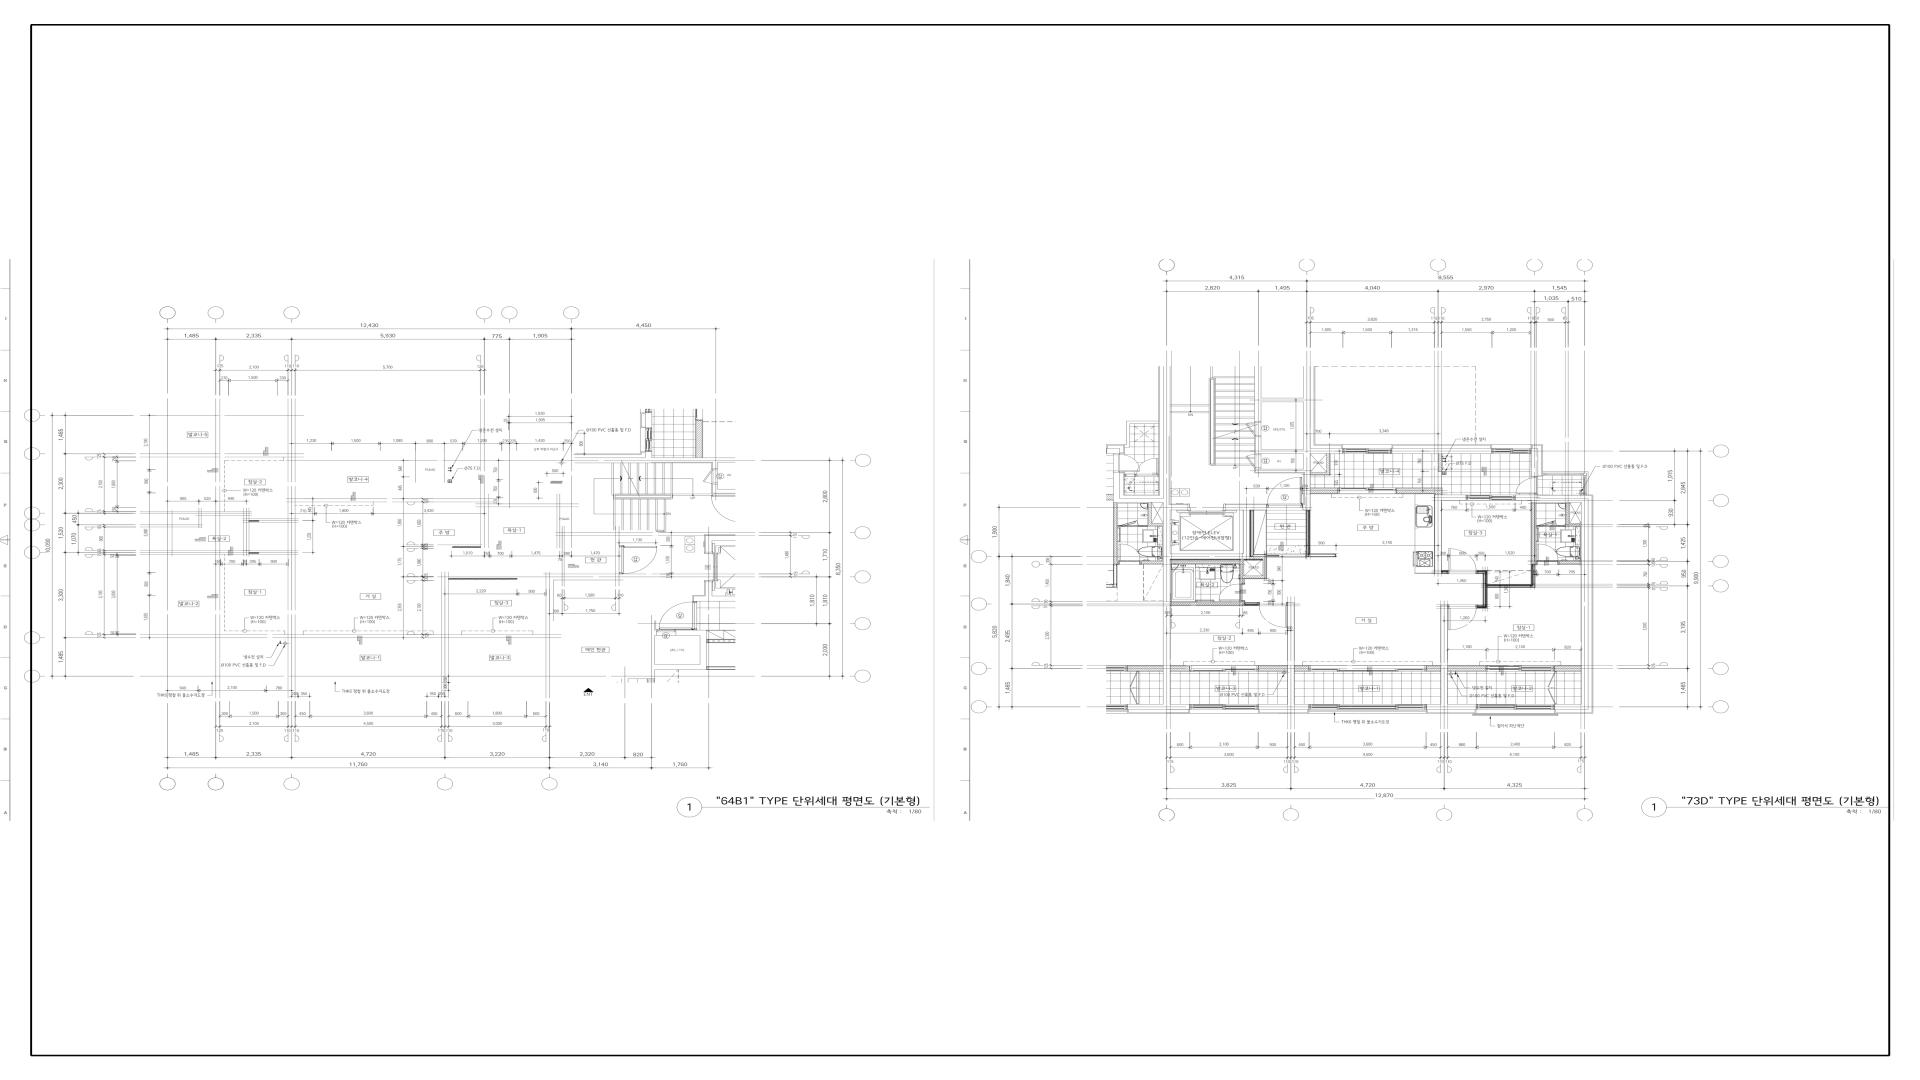door: (1266, 477, 1303, 508), (1258, 603, 1287, 628), (1448, 549, 1477, 574), (1448, 605, 1477, 630), (1218, 583, 1245, 601), (1536, 543, 1559, 564), (1515, 476, 1538, 495), (1545, 671, 1557, 704), (1246, 454, 1261, 469), (1246, 422, 1261, 436), (1266, 554, 1307, 558)
wall: (1163, 505, 1170, 709), (1581, 502, 1588, 704), (1163, 367, 1170, 505), (1287, 603, 1295, 704), (1440, 605, 1448, 704), (1303, 398, 1311, 472), (1391, 448, 1491, 454), (1435, 500, 1441, 574), (1170, 554, 1250, 559), (1254, 367, 1261, 422), (1303, 472, 1311, 510), (1396, 488, 1441, 495), (1170, 601, 1244, 605), (1244, 510, 1250, 554), (1258, 704, 1309, 709), (1427, 704, 1477, 709), (1448, 665, 1486, 671), (1305, 510, 1311, 554), (1225, 505, 1267, 510), (1435, 495, 1466, 501), (1538, 498, 1588, 502), (1258, 665, 1287, 671), (1311, 488, 1338, 495), (1531, 448, 1538, 476), (1555, 704, 1589, 709), (1555, 665, 1581, 671), (1487, 584, 1531, 588), (1311, 448, 1342, 454), (1261, 450, 1303, 454), (1261, 398, 1303, 402), (1482, 574, 1487, 605), (1532, 502, 1535, 562), (1255, 469, 1303, 472), (1307, 554, 1336, 558), (1170, 666, 1189, 671), (1170, 704, 1189, 709), (1515, 495, 1531, 501), (1170, 505, 1188, 510), (1170, 562, 1241, 563), (1531, 564, 1535, 588), (1255, 436, 1261, 454), (1427, 665, 1440, 671), (1567, 502, 1571, 524), (1295, 666, 1309, 671), (1241, 559, 1244, 583), (1244, 576, 1266, 579), (1559, 562, 1581, 564), (1327, 454, 1329, 475), (1531, 495, 1538, 502), (1263, 559, 1266, 576), (1439, 454, 1441, 471), (1250, 556, 1266, 559), (1311, 472, 1327, 475), (1477, 570, 1487, 574), (1477, 605, 1487, 609), (1567, 524, 1581, 526), (1245, 603, 1258, 605), (1556, 525, 1567, 527), (1441, 570, 1448, 574), (1532, 562, 1536, 564), (1584, 473, 1586, 476), (1435, 495, 1441, 495), (1415, 574, 1435, 574)
window: (1309, 665, 1427, 671), (1309, 704, 1427, 709), (1486, 665, 1555, 671), (1189, 665, 1258, 671), (1477, 704, 1555, 709), (1338, 488, 1396, 495), (1189, 704, 1258, 709), (1466, 495, 1515, 501), (1342, 448, 1391, 454), (1491, 448, 1531, 454), (1543, 473, 1584, 476), (1584, 476, 1586, 495)
